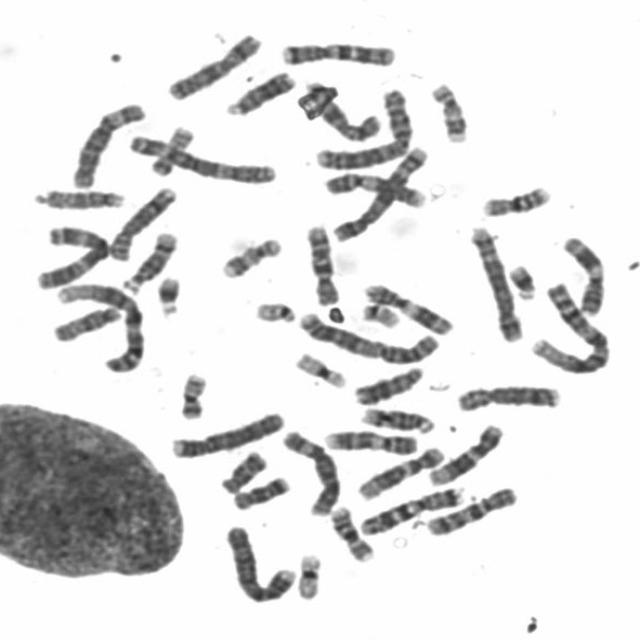A1: (50, 275, 148, 374), (525, 276, 614, 376)
A2: (309, 80, 417, 170), (291, 303, 444, 365)
A3: (122, 128, 280, 185), (29, 218, 113, 290)
B4: (219, 518, 300, 604), (165, 404, 288, 460)
B5: (327, 139, 432, 244), (464, 219, 528, 344)
C10: (421, 480, 523, 538), (301, 217, 343, 307)
C11: (357, 276, 458, 337), (556, 230, 610, 318)
C12: (422, 418, 508, 488), (352, 439, 447, 502)
C6: (65, 94, 148, 190), (276, 424, 343, 517)
C7: (353, 479, 469, 536), (275, 35, 400, 67)
C8: (104, 180, 180, 263), (452, 378, 565, 413)
C9: (318, 166, 430, 209), (318, 423, 422, 456)
D13: (220, 64, 298, 118), (349, 359, 429, 407)
D14: (118, 225, 181, 294), (356, 401, 439, 435)
D15: (46, 300, 125, 343), (29, 182, 128, 211)
E16: (325, 500, 378, 563), (476, 179, 556, 218)
E17: (214, 230, 285, 280), (426, 76, 472, 145)
E18: (214, 445, 271, 495), (228, 469, 294, 511)
F19: (289, 346, 351, 390), (290, 547, 326, 602)
F20: (143, 120, 196, 178), (173, 366, 211, 421)
G21: (502, 257, 540, 301), (151, 269, 185, 317)
G22: (355, 297, 404, 329), (249, 295, 299, 324)
X: (160, 27, 264, 102), (294, 75, 384, 143)
